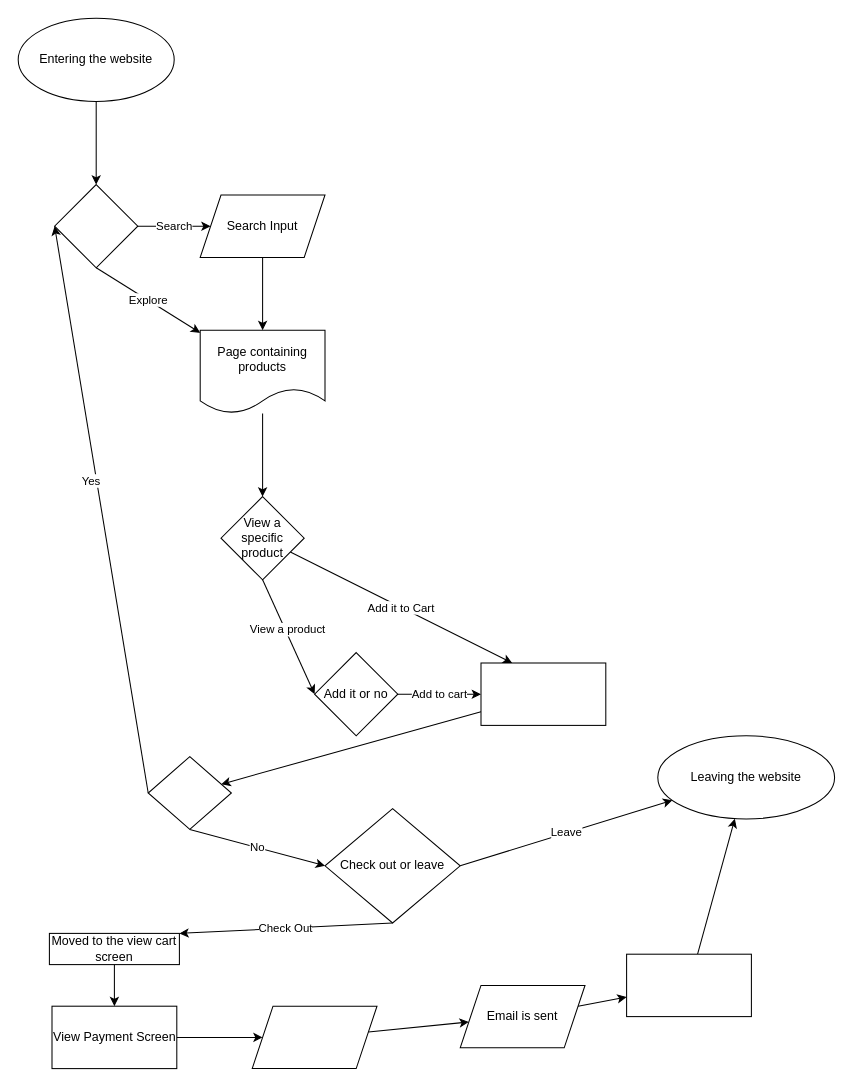
Some shapes in this 853 by 1087 pixel diagram are drawn without their labels. Each missing label, with the centre of its shape:
Added to cart conformation: pixel 543 693
Conitnue Shopping: pixel 189 792
Enter Payment info: pixel 314 1037
Order Conformation: pixel 688 985
Search or Explore: pixel 96 226
